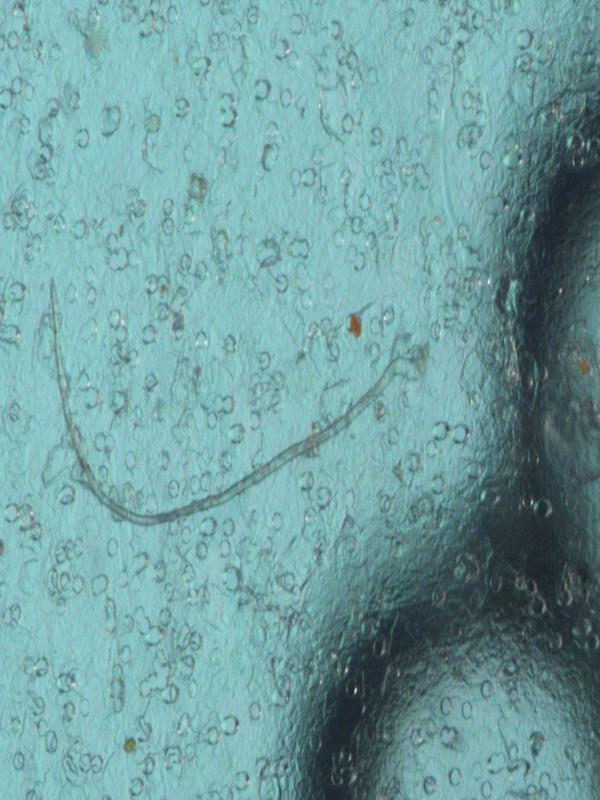microplastic: (1, 1, 598, 797), (45, 276, 429, 527)
